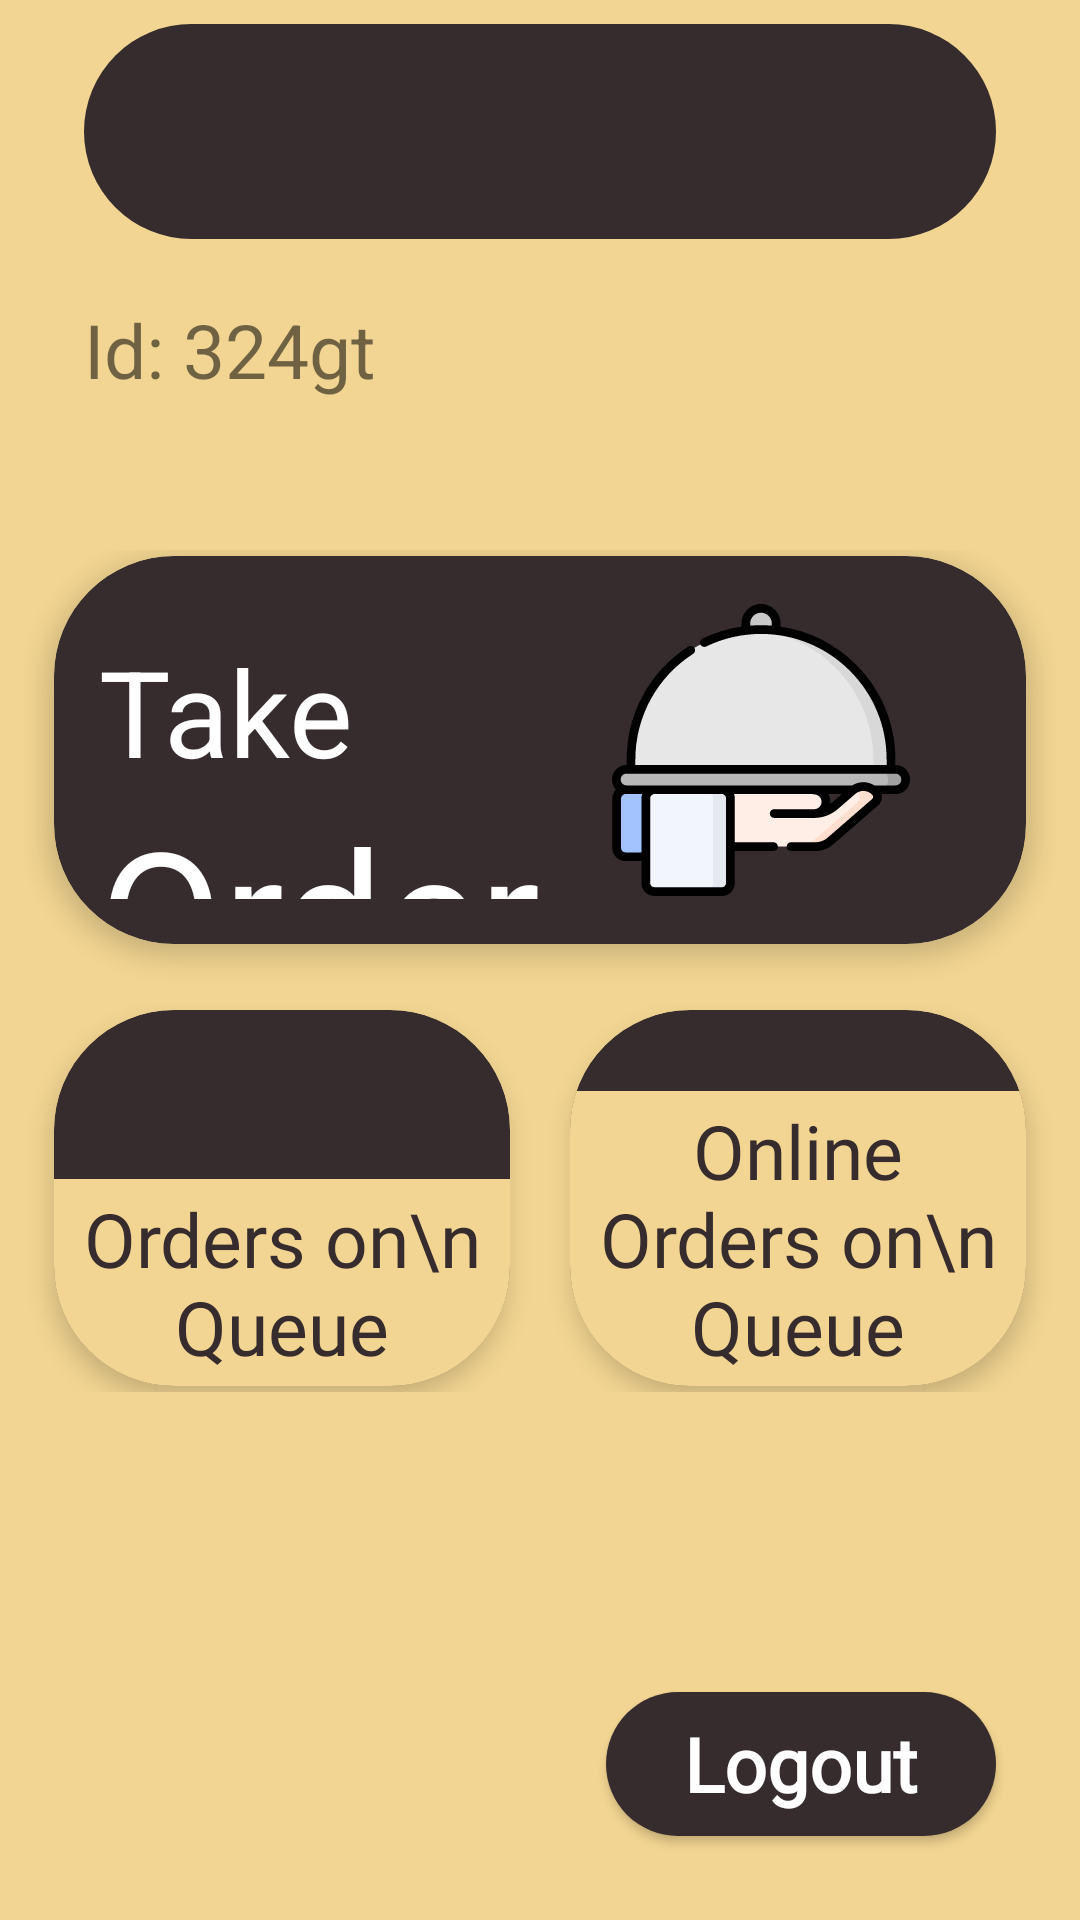

Icon bounding boxes for this 1080 × 1920 phone screenshot, format (x1, y1, x2, y2):
waiter: (612, 604, 910, 896)
